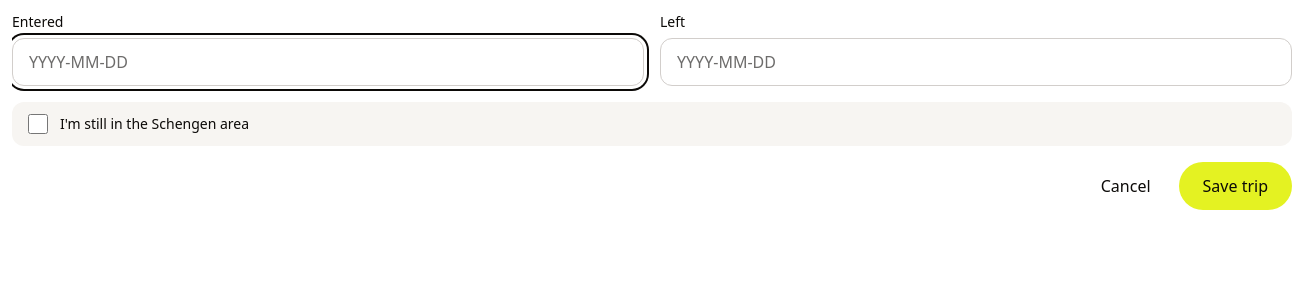
Test: TripEditor › still refuses an exit before the entry
Type "2026-09-10" into the field with test id "trip-entry" at (328, 62), box [12,38,644,86]
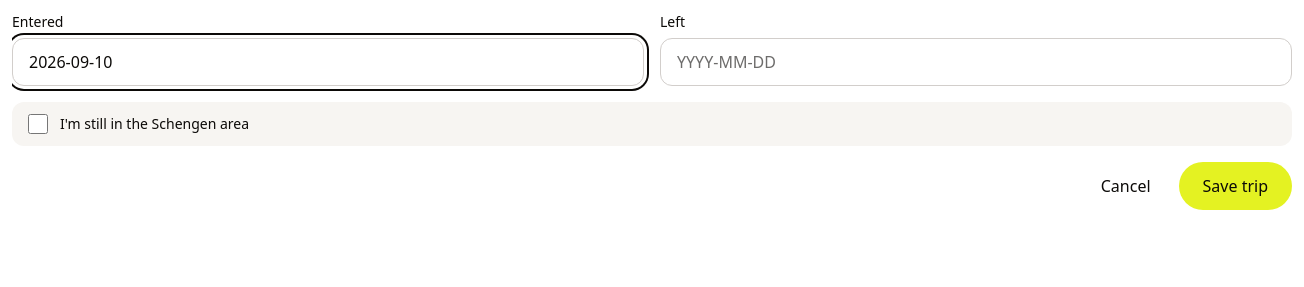
Type "2026-09-01" into the field with test id "trip-exit" at (976, 62), box [660,38,1292,86]
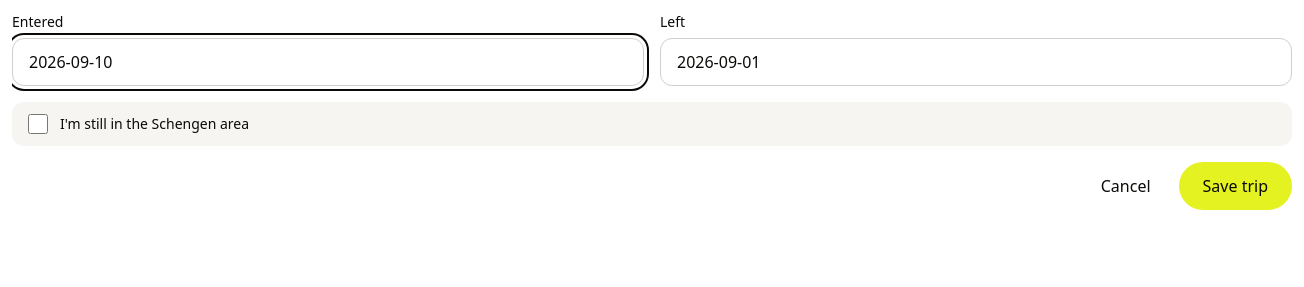
Click the button with test id "trip-save" at (1235, 186), box [1179,162,1292,210]
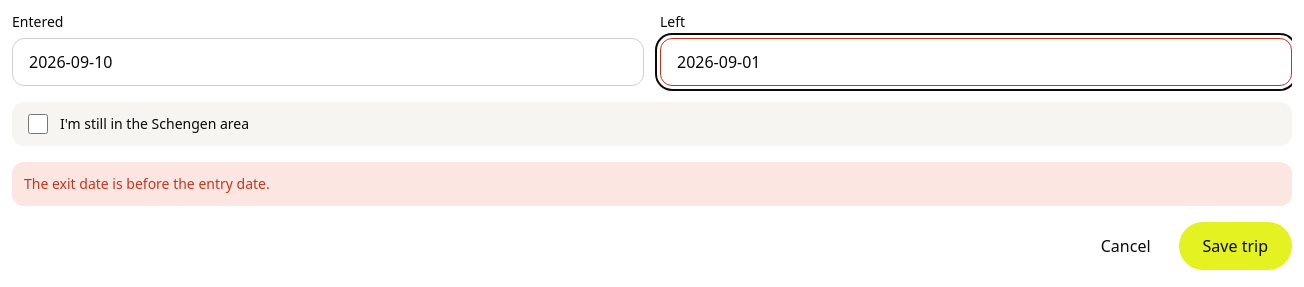
Expected: the message with test id "trip-form-error" shows "before the entry", [24,174,270,193]
